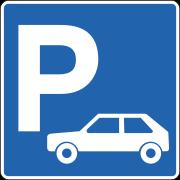Parking Lot Cars: (13, 19, 173, 169)
